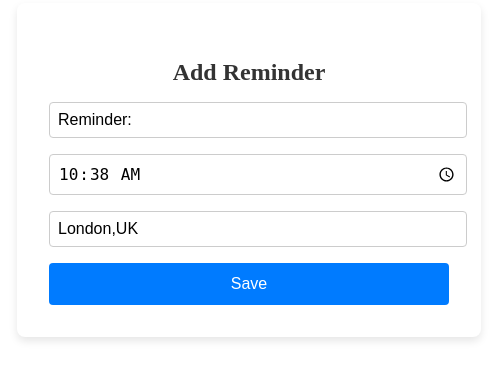
ReminderForm › should show an error message if reminder text exceeds 30 characters
The image size is (499, 391).
Replace the text in the 1st field with placeholder "Reminder text (max 30 chars)" with "This reminder text is way too long to be accepted" at (258, 120), box [49,102,467,138]
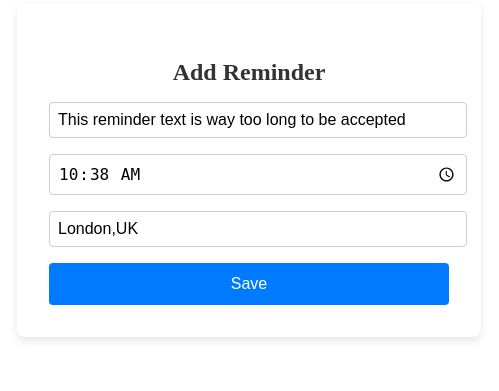
// Click the save button
Click the button "Save" at (249, 284), box [49,263,449,305]
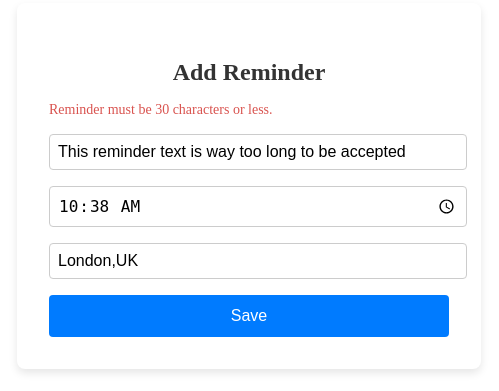
Result: the text "Reminder must be 30 characters or less." is shown at [49,102,272,117]
